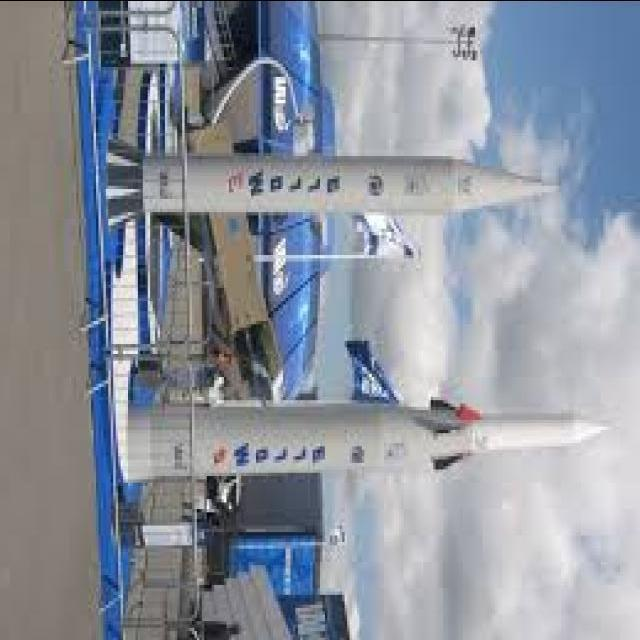Missile: (120, 392, 617, 491), (107, 126, 563, 224)
